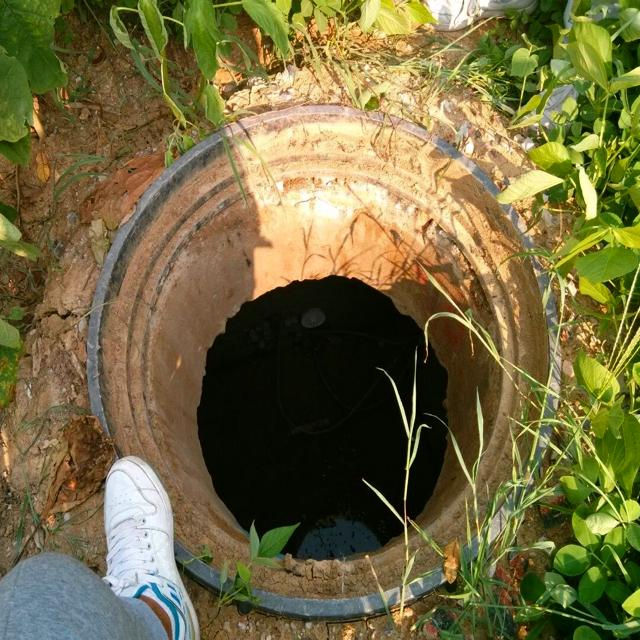lose: (84, 103, 558, 619)
